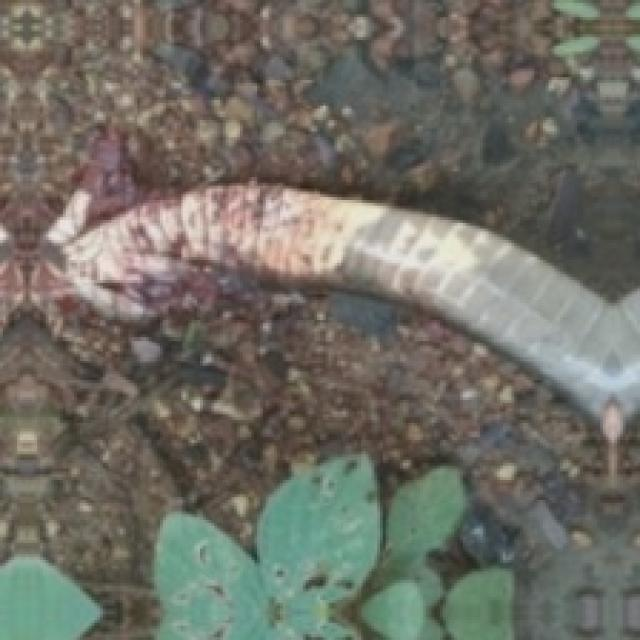king cobra: (60, 186, 637, 417)
